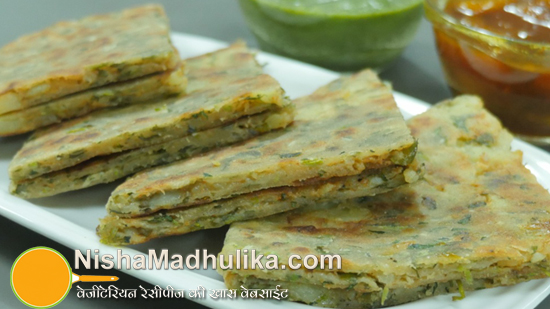aloo_paratha: (1, 5, 550, 301)
